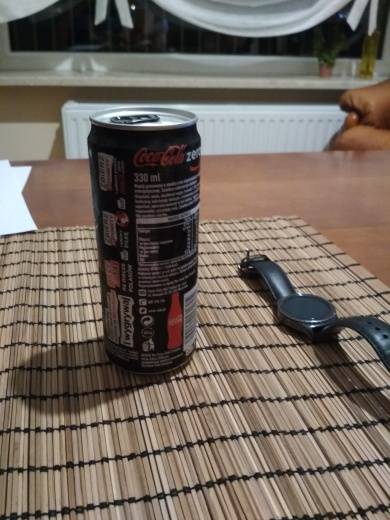colazero: (81, 95, 224, 385)
